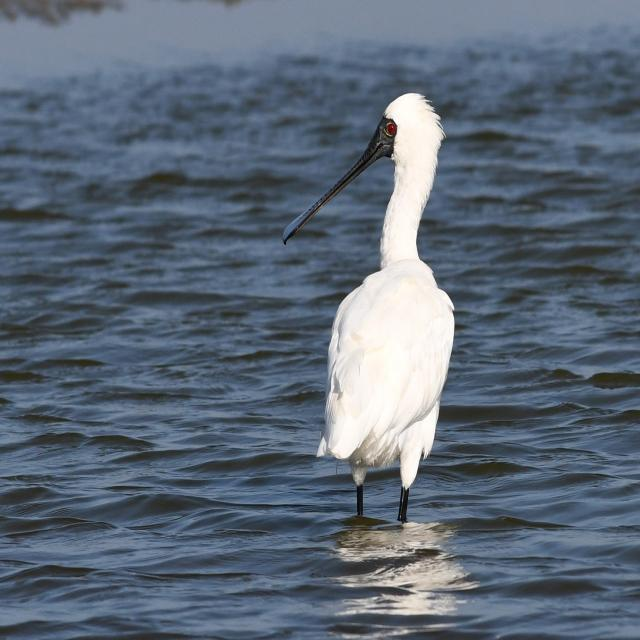Black-faced spoonbill: (284, 94, 454, 521)
